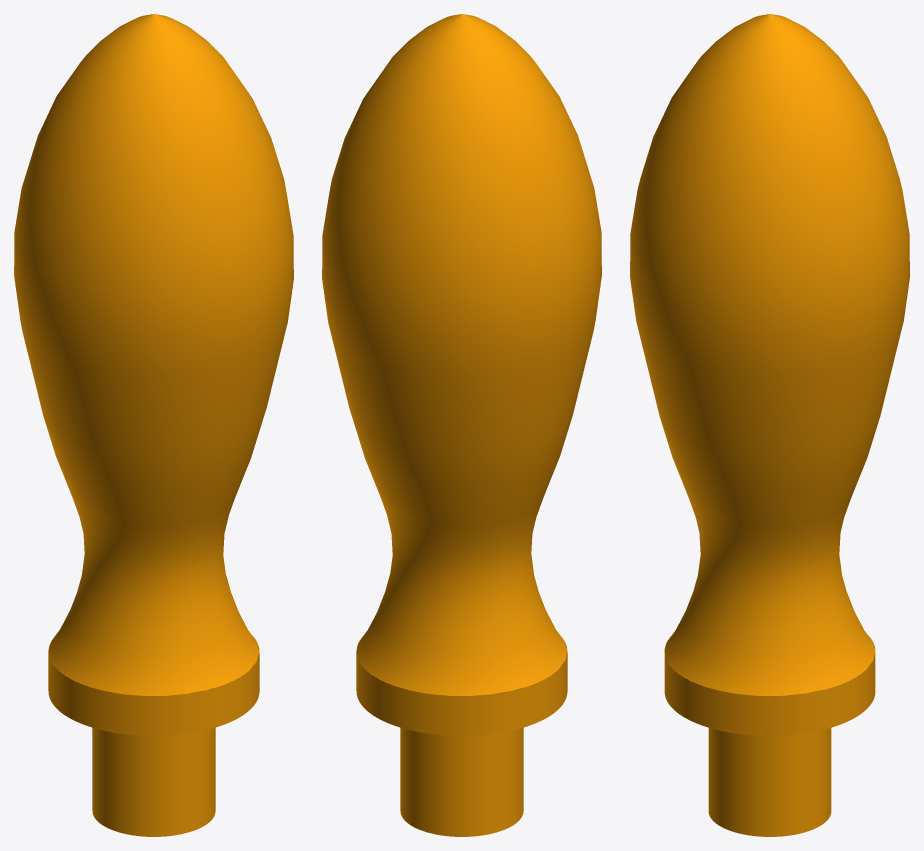
Rendered from shoubing.FBX.
The picture shows the model from 3 angles, left to right: view 1: azimuth 30°, elevation 25°; view 2: azimuth 150°, elevation 25°; view 3: azimuth 270°, elevation 25°; orthographic projection.
Visible parts, largest first — view 1: TRM_SRF (×6); view 2: TRM_SRF (×6); view 3: TRM_SRF (×6).
Part boxes in pixels (x1,y1,x2,y2): TRM_SRF (×6): (14, 14, 293, 836); TRM_SRF (×6): (322, 14, 601, 836); TRM_SRF (×6): (630, 14, 909, 836).
Bounding box in the file's own units: 12.53 × 39.37 × 12.53.
